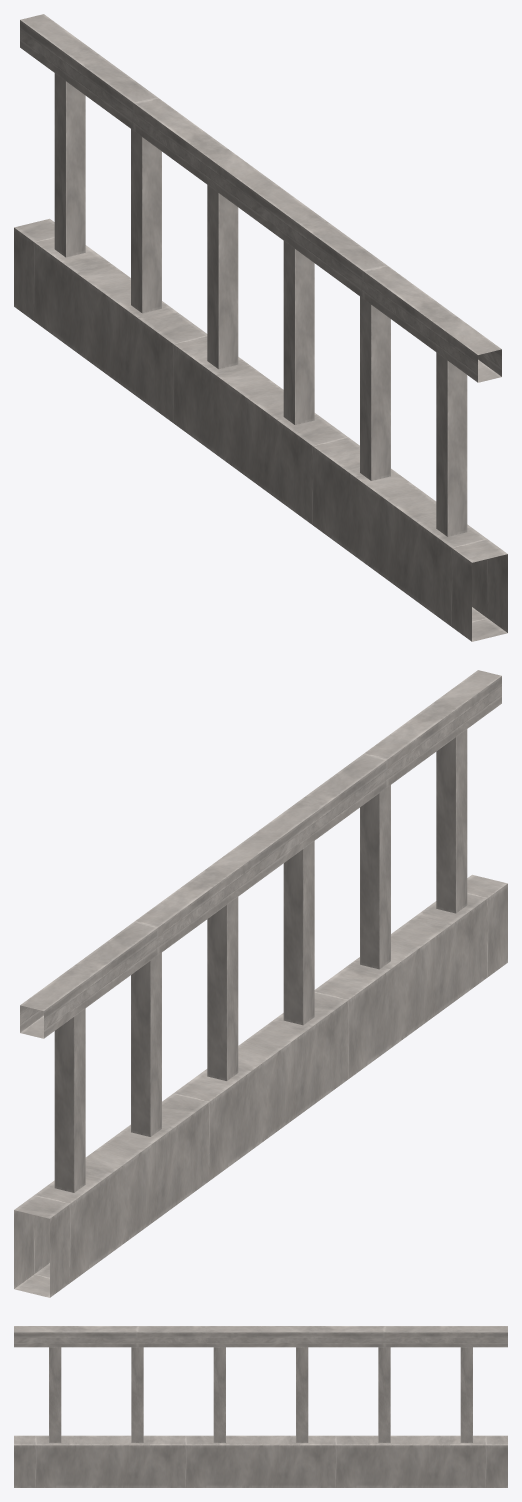
The model's file is Stair_6H_Rail_A.fbx.
3 views of the same model, one above another, from view 1: azimuth 30°, elevation 25°; view 2: azimuth 150°, elevation 25°; view 3: azimuth 270°, elevation 25° (orthographic). The views are drawn at different scales.
Parts seen in each view (by area): view 1: Stair_6H_Rail_A; view 2: Stair_6H_Rail_A; view 3: Stair_6H_Rail_A.
Part boxes in pixels (left/top/right/bottom): Stair_6H_Rail_A: left=14, top=14, right=507, bottom=641; Stair_6H_Rail_A: left=14, top=670, right=507, bottom=1297; Stair_6H_Rail_A: left=14, top=1326, right=507, bottom=1487.
Bounding box in the file's own units: 0.2712 × 6 × 2.06.
